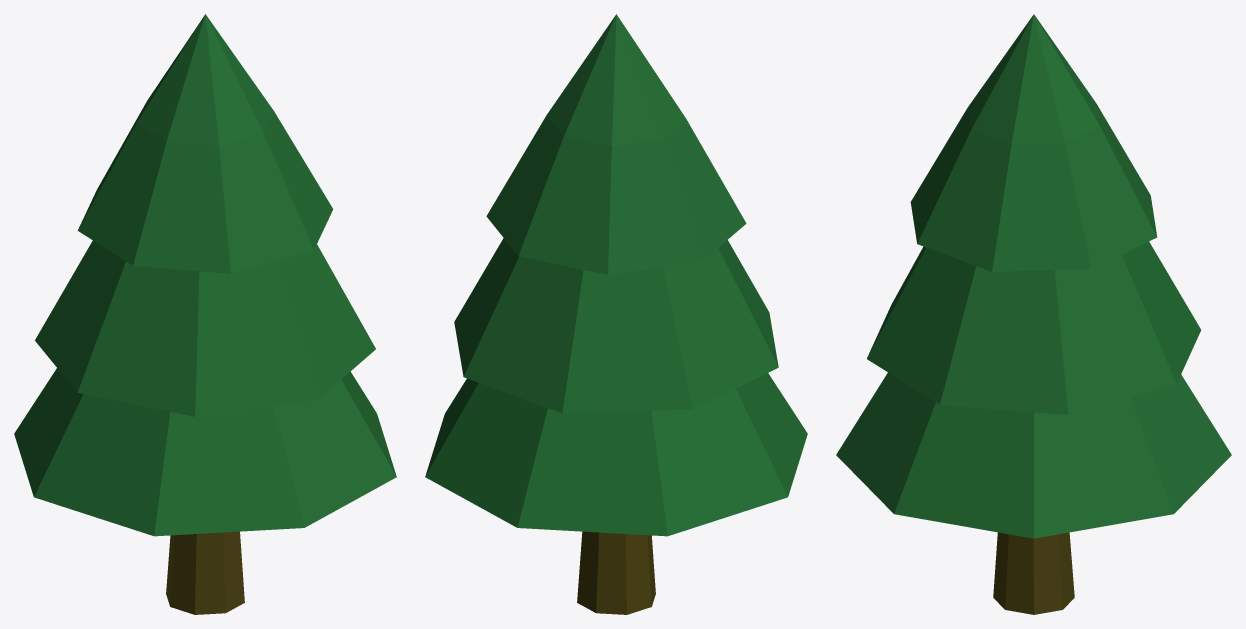
The picture shows the model from 3 angles, left to right: view 1: azimuth 30°, elevation 25°; view 2: azimuth 150°, elevation 25°; view 3: azimuth 270°, elevation 25°; orthographic projection.
Visible parts, largest first — view 1: 円柱, 円柱.001, 円柱.002, 円; view 2: 円柱, 円柱.001, 円柱.002, 円; view 3: 円柱, 円柱.001, 円柱.002, 円.
Part boxes in pixels (bbox=[...]): 円柱: bbox=[14, 368, 396, 536]; 円柱.001: bbox=[35, 240, 375, 416]; 円柱.002: bbox=[77, 14, 333, 273]; 円: bbox=[166, 531, 244, 614]; 円柱: bbox=[425, 373, 807, 536]; 円柱.001: bbox=[454, 238, 778, 413]; 円柱.002: bbox=[486, 14, 746, 274]; 円: bbox=[577, 531, 655, 614]; 円柱: bbox=[836, 372, 1231, 538]; 円柱.001: bbox=[867, 241, 1200, 415]; 円柱.002: bbox=[910, 14, 1157, 271]; 円: bbox=[993, 532, 1074, 614].
Size of the model in its own units: 689 by 1122 by 689.
